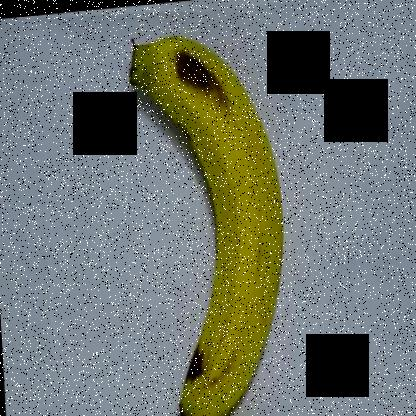freshripe: (130, 22, 291, 415)
